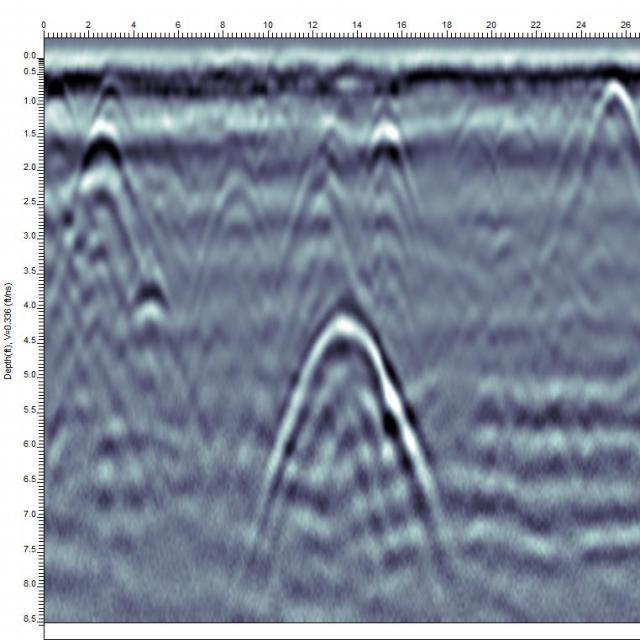hyperbola: (246, 300, 454, 590)
